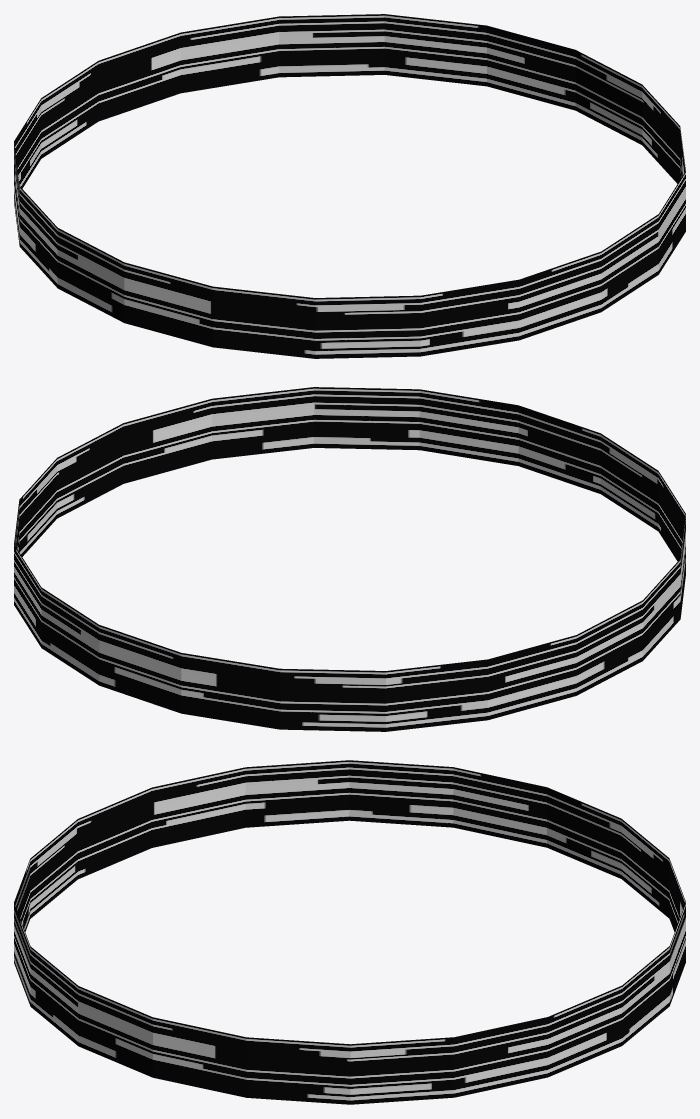
The model's file is Effect_yinlv02.FBX.
3 views of the same model, one above another, from view 1: azimuth 30°, elevation 25°; view 2: azimuth 150°, elevation 25°; view 3: azimuth 270°, elevation 25° (orthographic).
Visible parts, largest first — view 1: Effect_yinlv02; view 2: Effect_yinlv02; view 3: Effect_yinlv02.
Boxes of the visible parts, left/top/right/bottom form: Effect_yinlv02: left=14, top=14, right=685, bottom=358; Effect_yinlv02: left=14, top=387, right=685, bottom=731; Effect_yinlv02: left=14, top=760, right=685, bottom=1104.
Size of the model in its own units: 20.05 by 1.99 by 20.05.
Materials: 1 (1 with a texture image).
